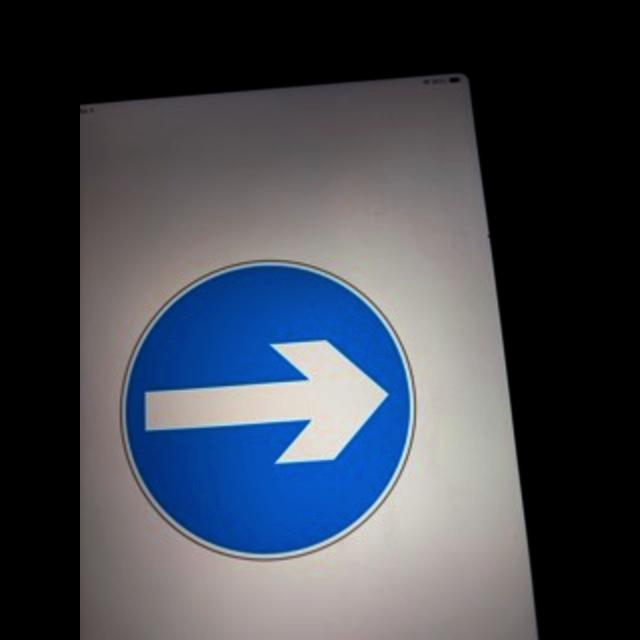TURN RIGHT: (118, 258, 434, 560)
